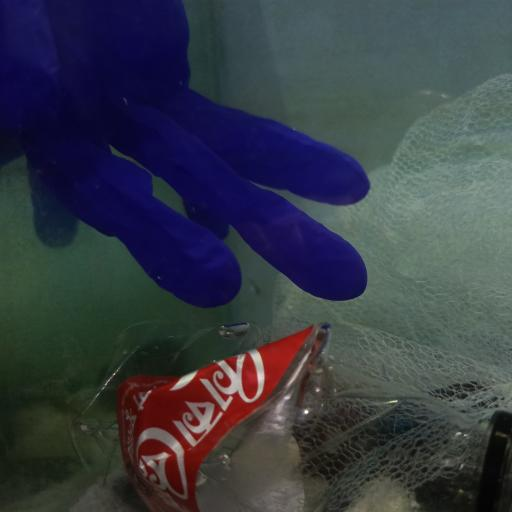glove: (1, 0, 368, 306)
net: (275, 69, 511, 512)
plastic_bottle: (67, 318, 512, 512)
